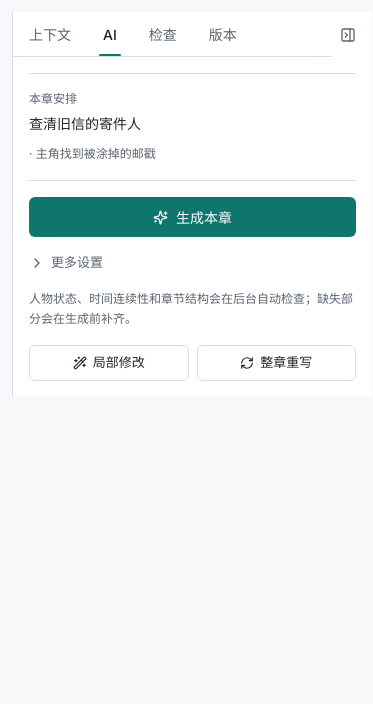
it: RightPanel audit actions › shows an outline-driven one-click writing view by default
Expected: the button "生成本章" is shown, [29,197,356,237]
Click the button "更多设置".
click(77, 262)  # box [29,253,356,272]
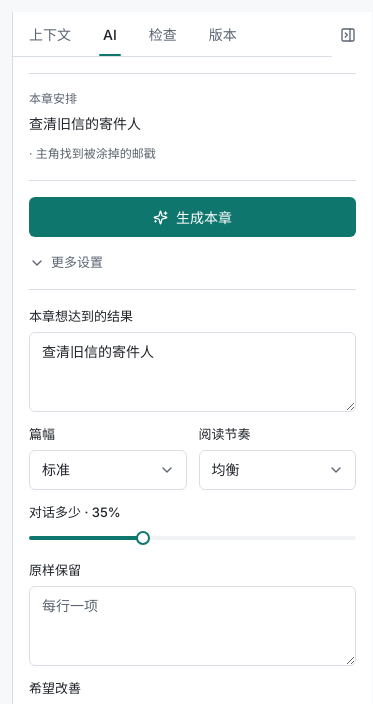
Result: the text "本章想达到的结果" is shown at [29,308,133,324]
Result: the text "对话多少" is shown at [29,504,121,520]
